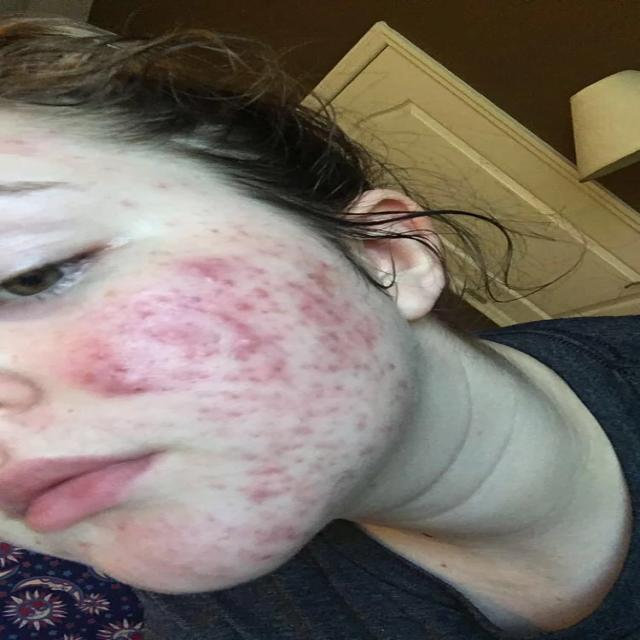Acne: (70, 338, 148, 373), (280, 410, 360, 444), (167, 259, 250, 288), (368, 371, 418, 418), (207, 396, 277, 427), (210, 366, 298, 390), (322, 333, 376, 372), (298, 376, 370, 402), (230, 331, 285, 365), (84, 374, 156, 399), (123, 301, 177, 333), (286, 259, 344, 288), (168, 294, 234, 318), (294, 299, 362, 322), (242, 467, 312, 487), (165, 337, 223, 360), (338, 449, 377, 481), (238, 489, 306, 506), (233, 286, 297, 302), (144, 179, 192, 194), (224, 299, 270, 313)
